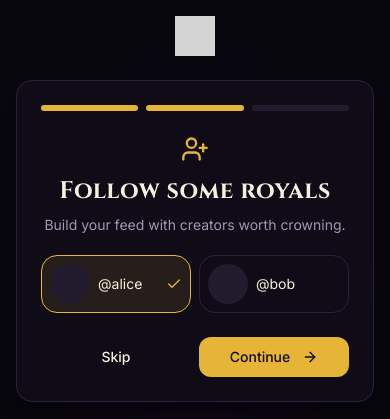
Scenario: Onboarding suggested follows › treats duplicate insert as already-following (no user-facing error)
Note: Click to unfollow, then click again to follow (which will trigger dup).
Click the button "@alice" at coordinates (116, 284), box [41,255,191,313]
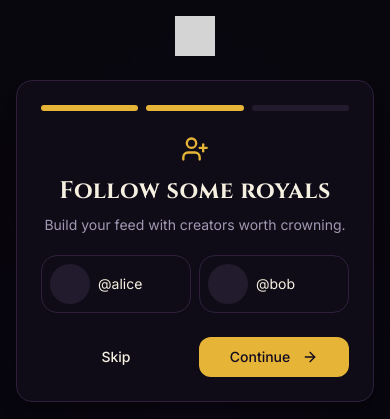
Click the button "@alice" at coordinates (116, 284), box [41,255,191,313]
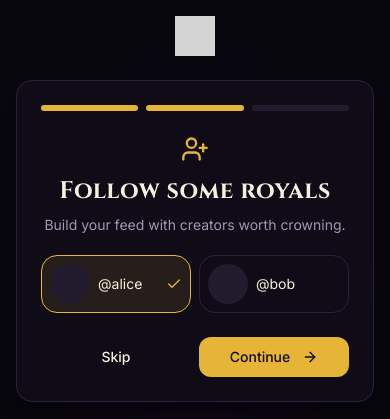
Now the button "@alice" has class "border-primary", box [41,255,191,313]
